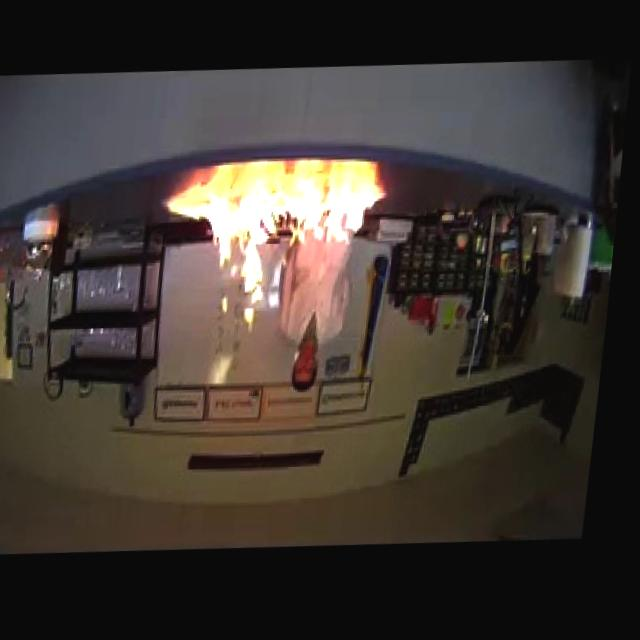Fire: (151, 170, 394, 332)
